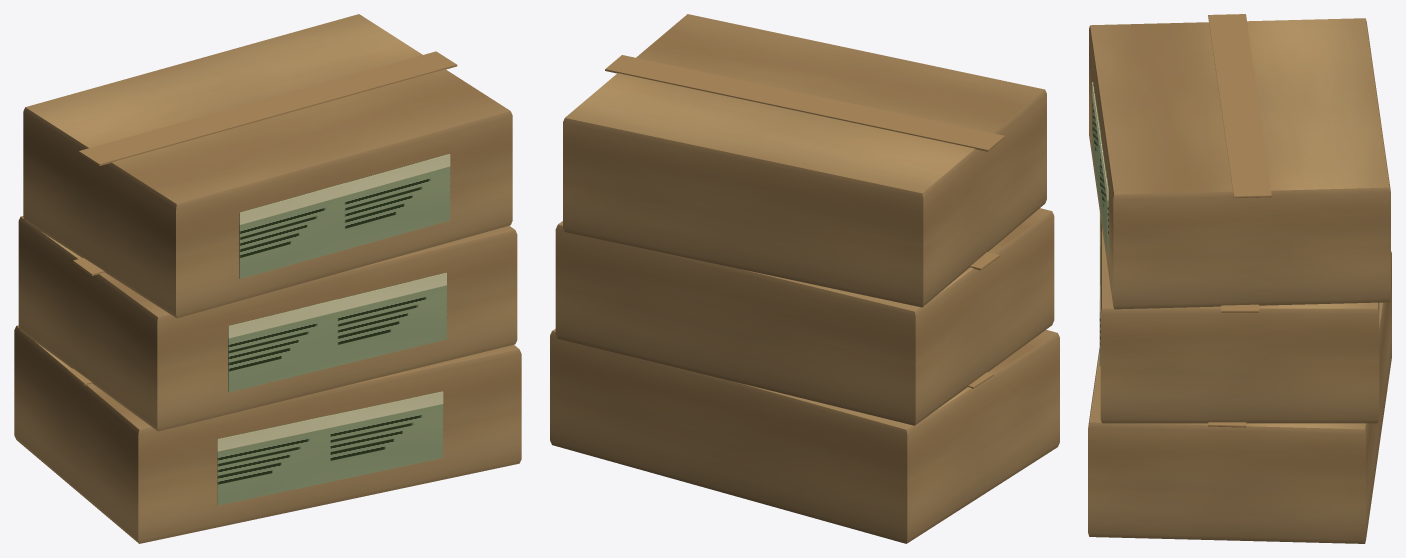
Rendered from ration_ration_boxes_stacked.glb.
The picture shows the model from 3 angles, left to right: view 1: azimuth 30°, elevation 25°; view 2: azimuth 150°, elevation 25°; view 3: azimuth 270°, elevation 25°; orthographic projection.
Visible parts, largest first — view 1: ration_ration_boxes_stacked; view 2: ration_ration_boxes_stacked; view 3: ration_ration_boxes_stacked.
Boxes of the visible parts, x1,y1,x2,y2 form: ration_ration_boxes_stacked: [14, 14, 521, 543]; ration_ration_boxes_stacked: [550, 14, 1059, 543]; ration_ration_boxes_stacked: [1088, 14, 1391, 543].
Size of the model in its own units: 0.3526 by 0.3011 by 0.24.
Materials: 3 (2 with a texture image).
